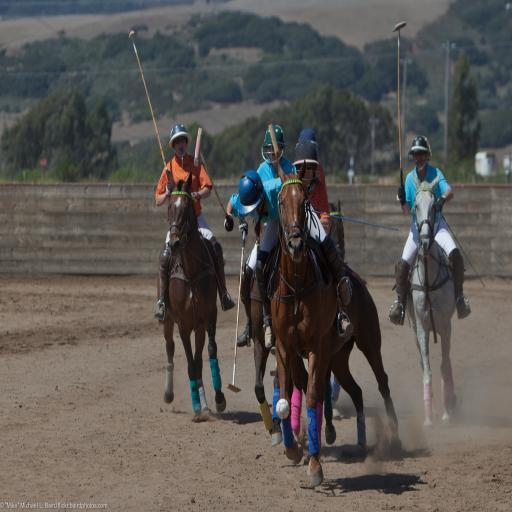horse: (269, 162, 404, 484), (155, 170, 228, 420), (408, 170, 458, 426)
